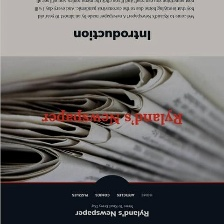news_paper: (0, 57, 224, 183)
